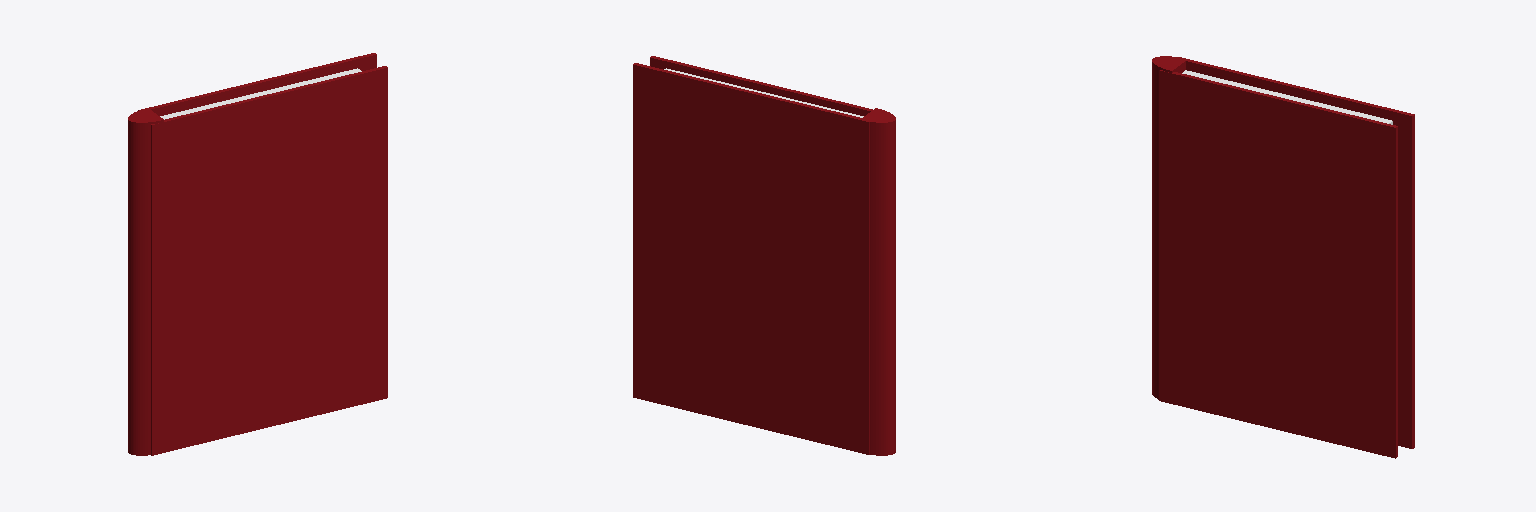
File: diary.obj
The picture shows the model from 3 angles: view 1: azimuth 30°, elevation 25°; view 2: azimuth 150°, elevation 25°; view 3: azimuth 330°, elevation 25°; orthographic projection.
Parts seen in each view (by area): view 1: obj_0; view 2: obj_0; view 3: obj_0.
Part boxes in pixels (x1,y1,x2,y2): obj_0: (128, 53, 387, 455); obj_0: (633, 56, 895, 455); obj_0: (1152, 56, 1414, 458).
Size of the model in its own units: 116 by 146 by 13.